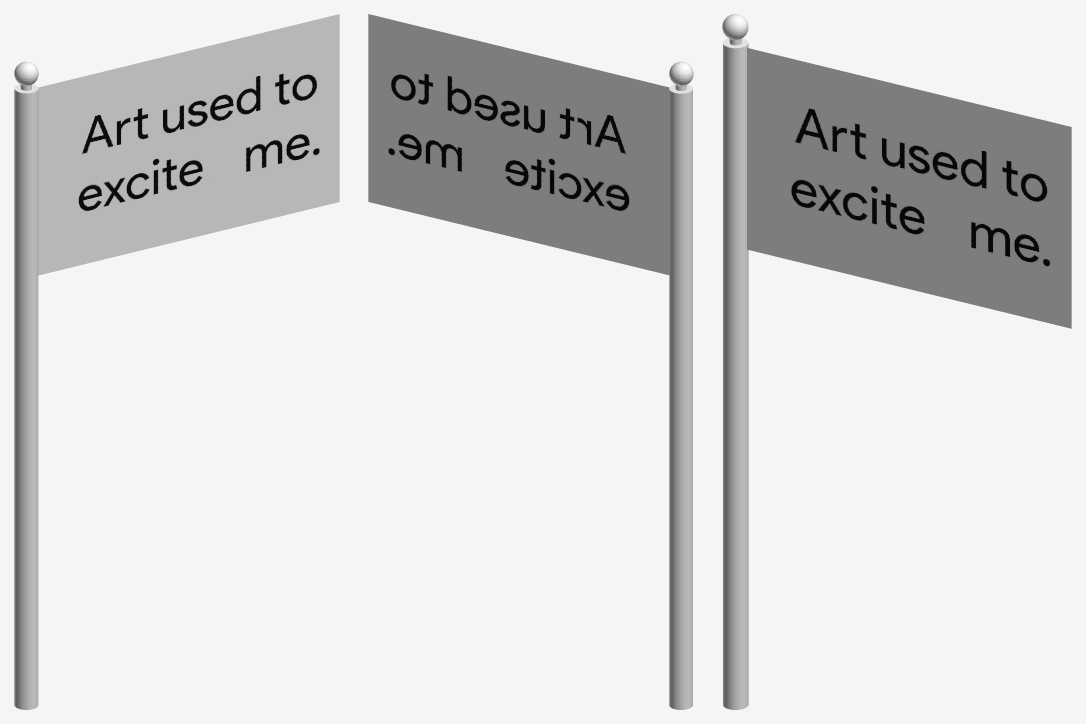
File: asset-flag.glb
The picture shows the model from 3 angles, left to right: view 1: azimuth 30°, elevation 25°; view 2: azimuth 150°, elevation 25°; view 3: azimuth 330°, elevation 25°; orthographic projection. The views are drawn at different scales.
Parts seen in each view (by area): view 1: Plane, Cylinder; view 2: Plane, Cylinder; view 3: Plane, Cylinder, Sphere.
Boxes of the visible parts, x1,y1,x2,y2 form: Plane: [38, 14, 339, 275]; Cylinder: [14, 84, 38, 709]; Plane: [368, 14, 669, 274]; Cylinder: [669, 84, 692, 709]; Plane: [747, 48, 1071, 328]; Cylinder: [723, 38, 748, 709]; Sphere: [722, 14, 748, 39].
Size of the model in its own units: 4.64 by 8.79 by 0.3062.
2 materials, 1 textured.
